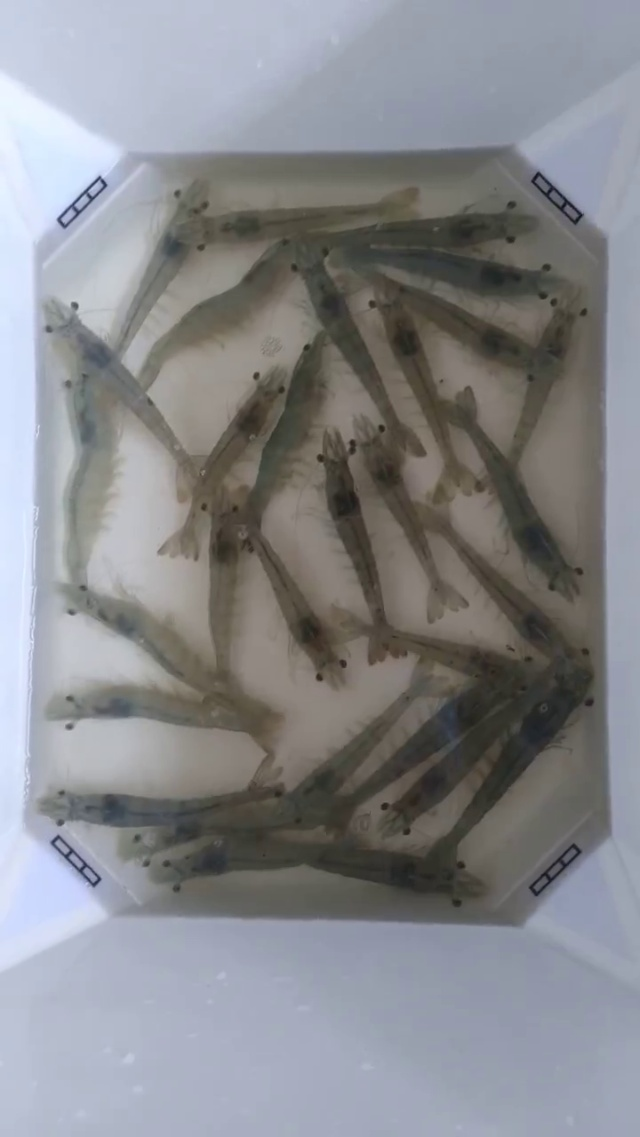shrimp: (171, 419, 280, 645), (575, 143, 639, 485), (29, 493, 121, 716), (0, 765, 100, 953), (47, 618, 156, 784), (581, 496, 639, 788), (442, 148, 554, 299), (362, 725, 460, 891), (88, 333, 196, 476), (158, 401, 255, 559), (121, 179, 210, 337), (214, 754, 335, 868), (188, 157, 283, 297), (288, 239, 375, 389), (67, 795, 178, 911), (348, 348, 425, 514), (369, 543, 468, 668), (34, 209, 119, 353), (326, 189, 427, 308), (295, 575, 390, 688), (317, 417, 374, 532)
